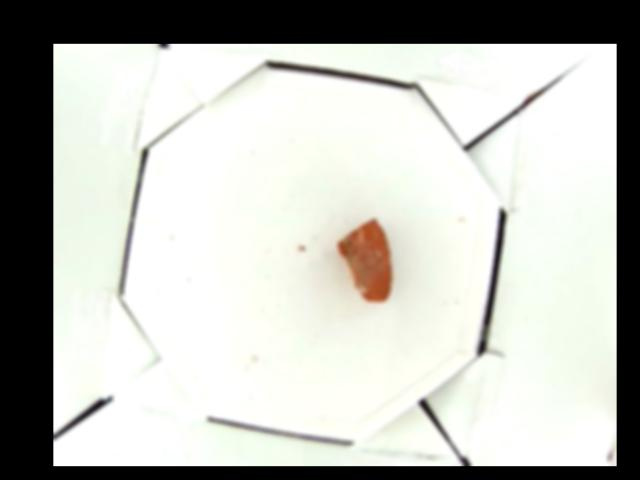Brisk: (337, 218, 393, 302)
